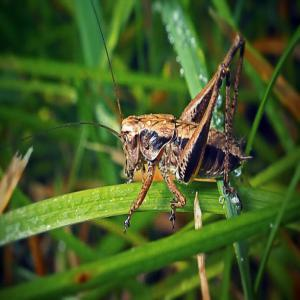locust: (99, 43, 253, 203)
